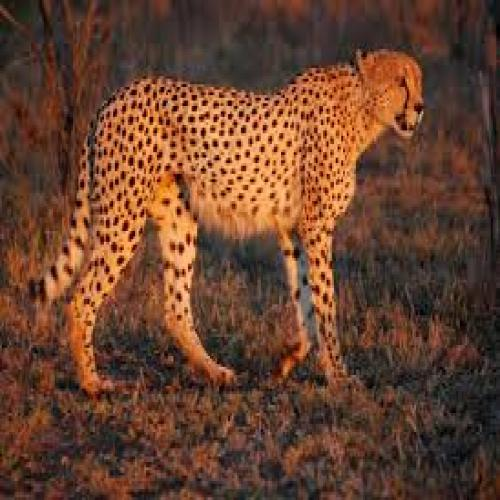cheetah-endangered: (30, 42, 426, 397)
